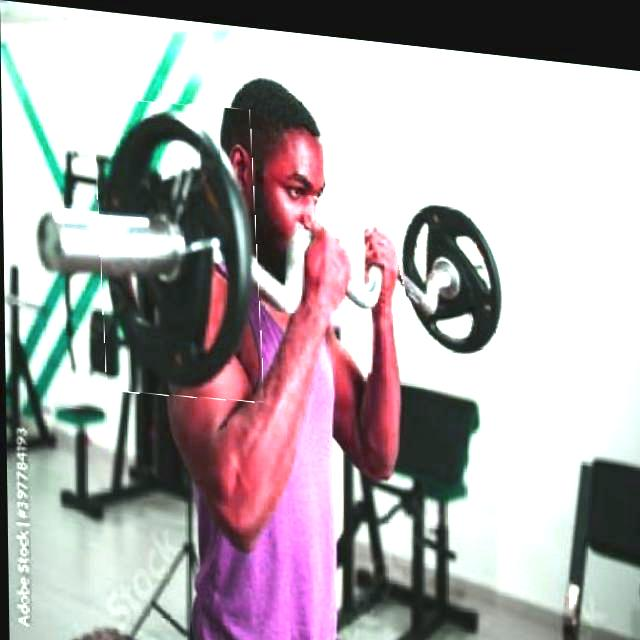barbell: (95, 93, 261, 402), (394, 176, 515, 357)
